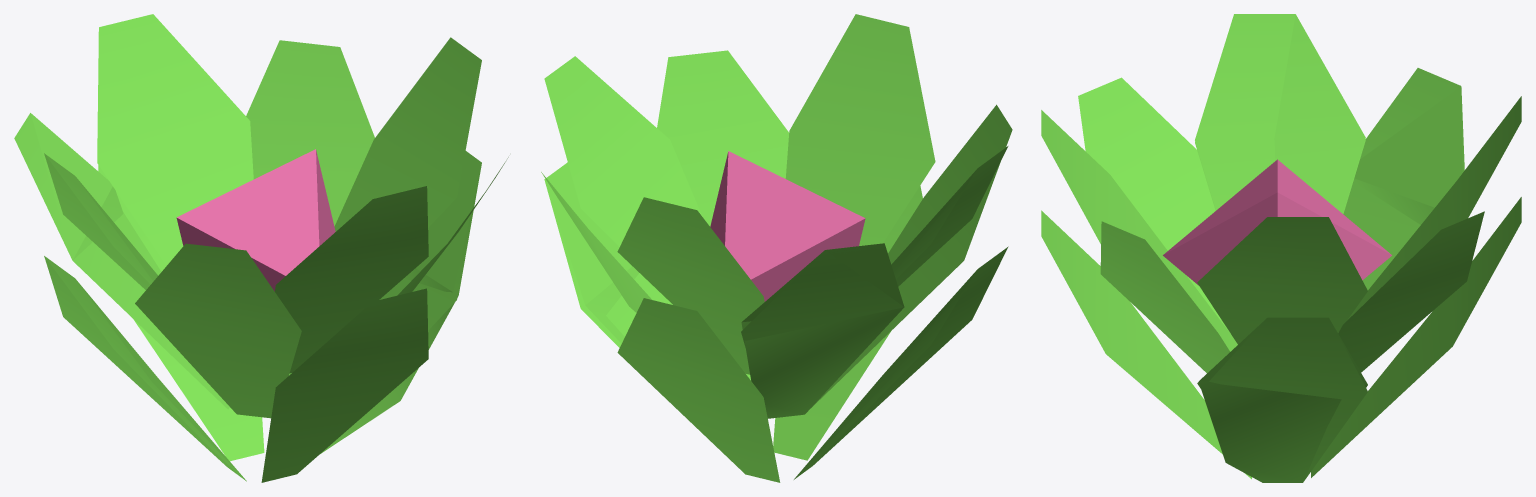
Rendered from Plant6.fbx.
3 renders of one model, left to right at view 1: azimuth 30°, elevation 25°; view 2: azimuth 150°, elevation 25°; view 3: azimuth 270°, elevation 25°, orthographic.
Parts seen in each view (by area): view 1: Plant_6; view 2: Plant_6; view 3: Plant_6.
Boxes of the visible parts, <box> form: Plant_6: <box>14,14,508,482</box>; Plant_6: <box>541,14,1012,482</box>; Plant_6: <box>1041,14,1521,482</box>.
Size of the model in its own units: 84.03 by 68.49 by 84.03.
